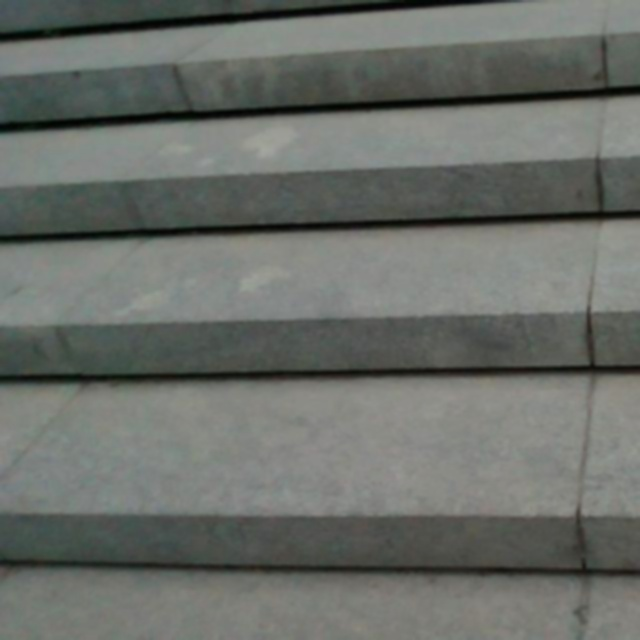stair: (0, 4, 636, 582)
